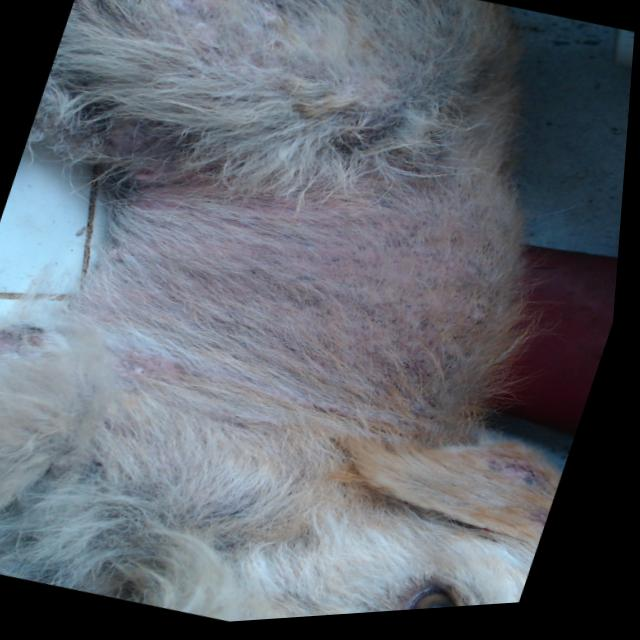demodicosis: (188, 152, 504, 418), (467, 454, 564, 513), (0, 314, 60, 383), (134, 0, 264, 30)
